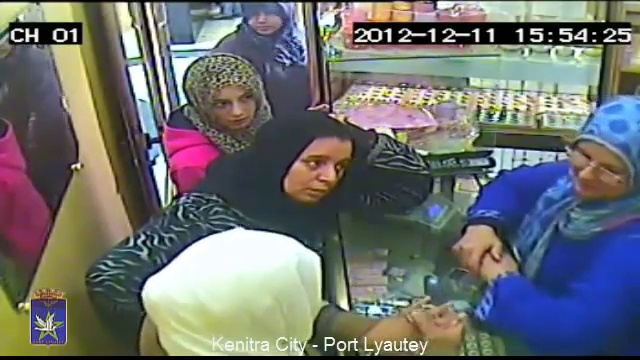face: (291, 137, 351, 205), (572, 138, 626, 199), (214, 90, 260, 128), (247, 7, 284, 36)
